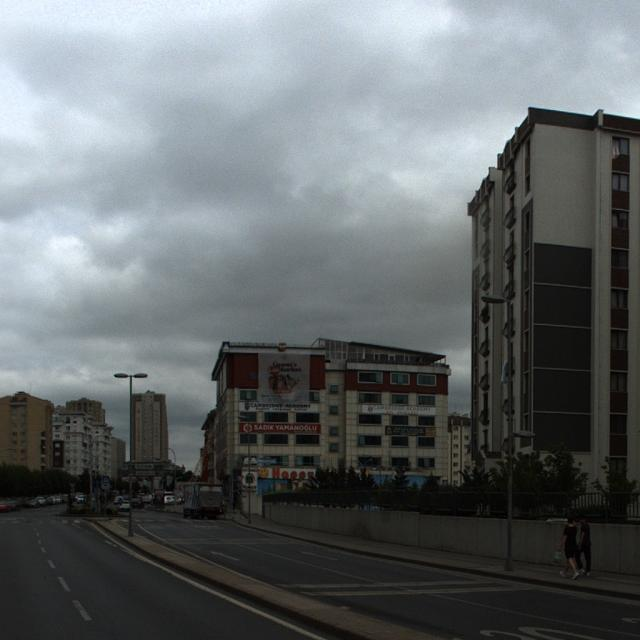SignStore: (239, 423, 320, 434), (239, 402, 317, 413), (362, 405, 436, 416), (258, 467, 316, 481), (385, 426, 436, 436)
